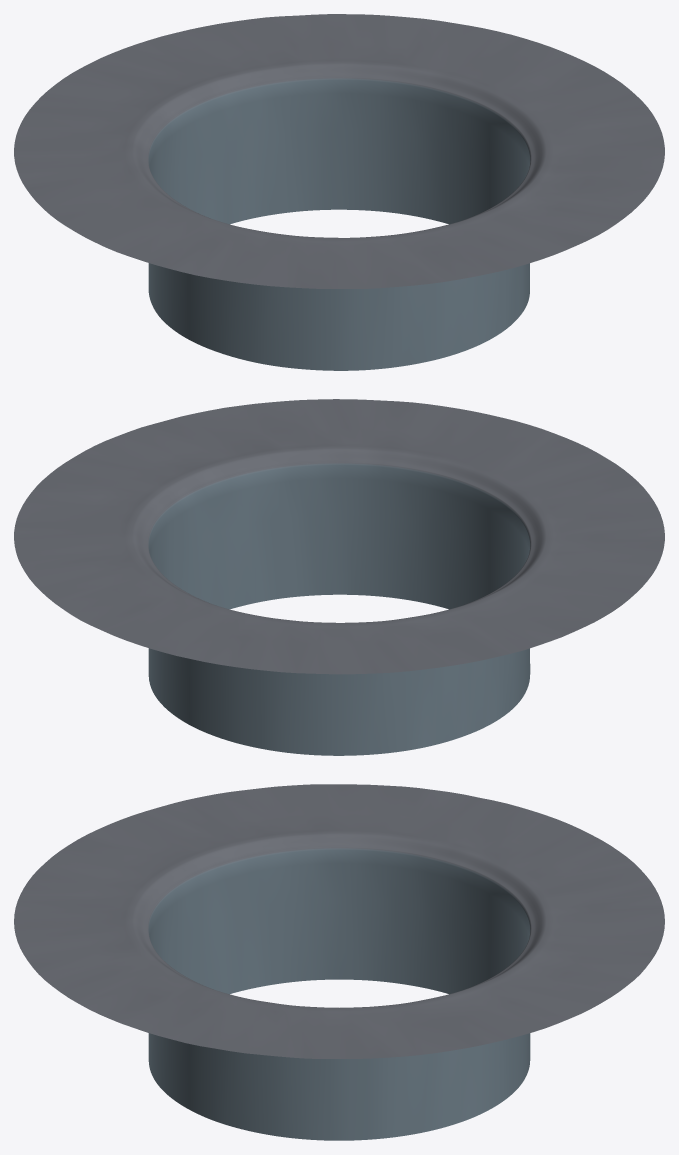
Rendered from pool_rim.glb.
3 views of the same model, one above another, from view 1: azimuth 30°, elevation 25°; view 2: azimuth 150°, elevation 25°; view 3: azimuth 270°, elevation 25° (orthographic).
Parts seen in each view (by area): view 1: PoolRim; view 2: PoolRim; view 3: PoolRim.
Boxes of the visible parts, x1,y1,x2,y2 form: PoolRim: (14,14,664,370); PoolRim: (14,399,664,755); PoolRim: (14,784,664,1140).
Bounding box in the file's own units: 132 × 31.24 × 132.
